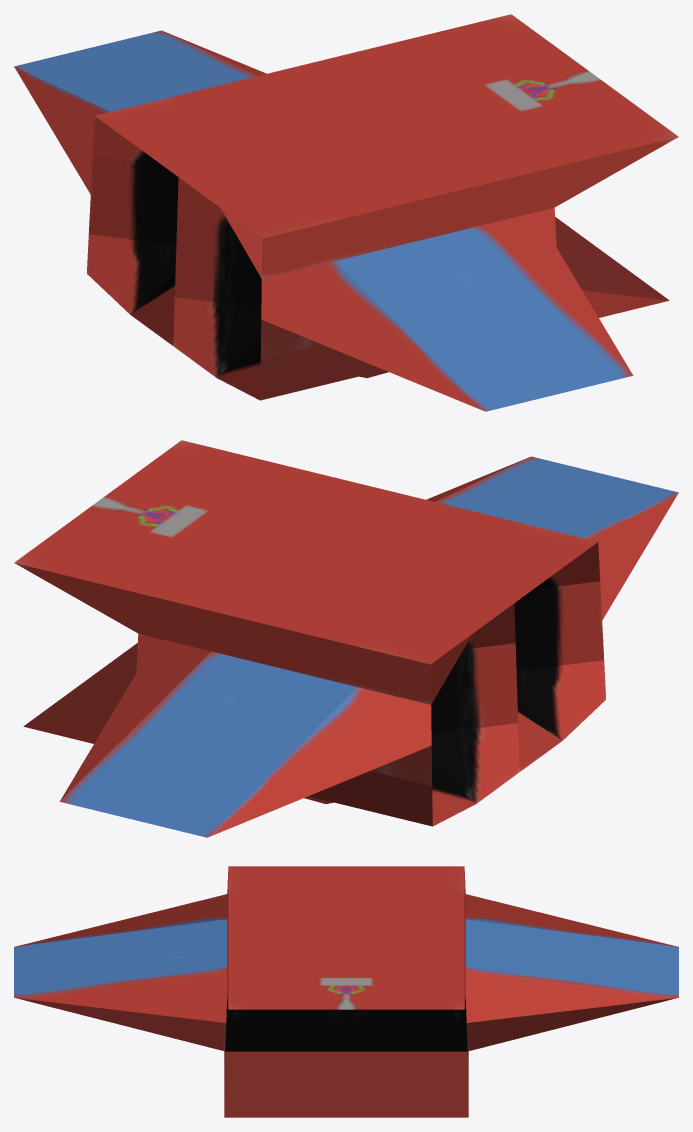
Rendered from spaceship.fbx.
3 renders of one model, top to bottom at view 1: azimuth 30°, elevation 25°; view 2: azimuth 150°, elevation 25°; view 3: azimuth 270°, elevation 25°, orthographic. The views are drawn at different scales.
Visible parts, largest first — view 1: Cube; view 2: Cube; view 3: Cube.
Part boxes in pixels (x1,y1,x2,y2): Cube: (14,14,678,411); Cube: (14,440,678,837); Cube: (14,866,678,1117).
Bounding box in the file's own units: 7261 × 3369 × 14071.
Materials: 1 (1 with a texture image).
